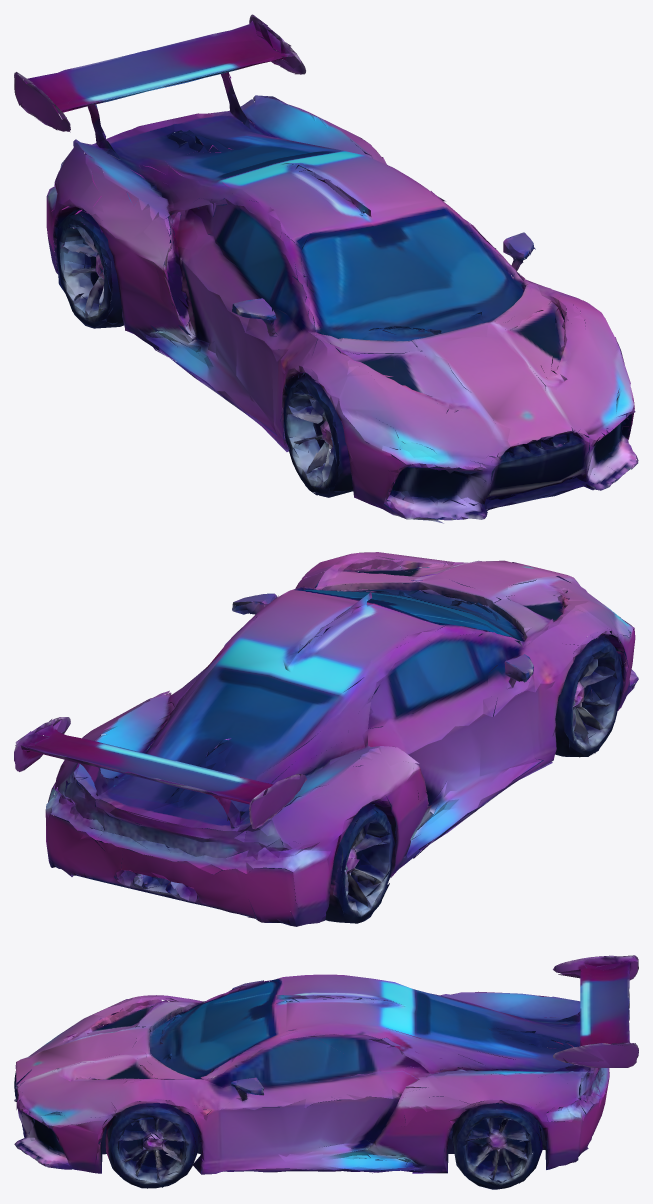
File: electrichypercar_armor2.glb
The picture shows the model from 3 angles, top to bottom: view 1: azimuth 30°, elevation 25°; view 2: azimuth 150°, elevation 25°; view 3: azimuth 270°, elevation 25°; orthographic projection. The views are drawn at different scales.
Parts seen in each view (by area): view 1: Armor_Electric_Hypercar.001; view 2: Armor_Electric_Hypercar.001; view 3: Armor_Electric_Hypercar.001.
Boxes of the visible parts, left/top/right/bottom form: Armor_Electric_Hypercar.001: left=14, top=14, right=638, bottom=523; Armor_Electric_Hypercar.001: left=14, top=552, right=638, bottom=926; Armor_Electric_Hypercar.001: left=14, top=955, right=638, bottom=1189.
Bounding box in the file's own units: 0.4954 × 0.3078 × 1.2.
1 material, 1 textured.
